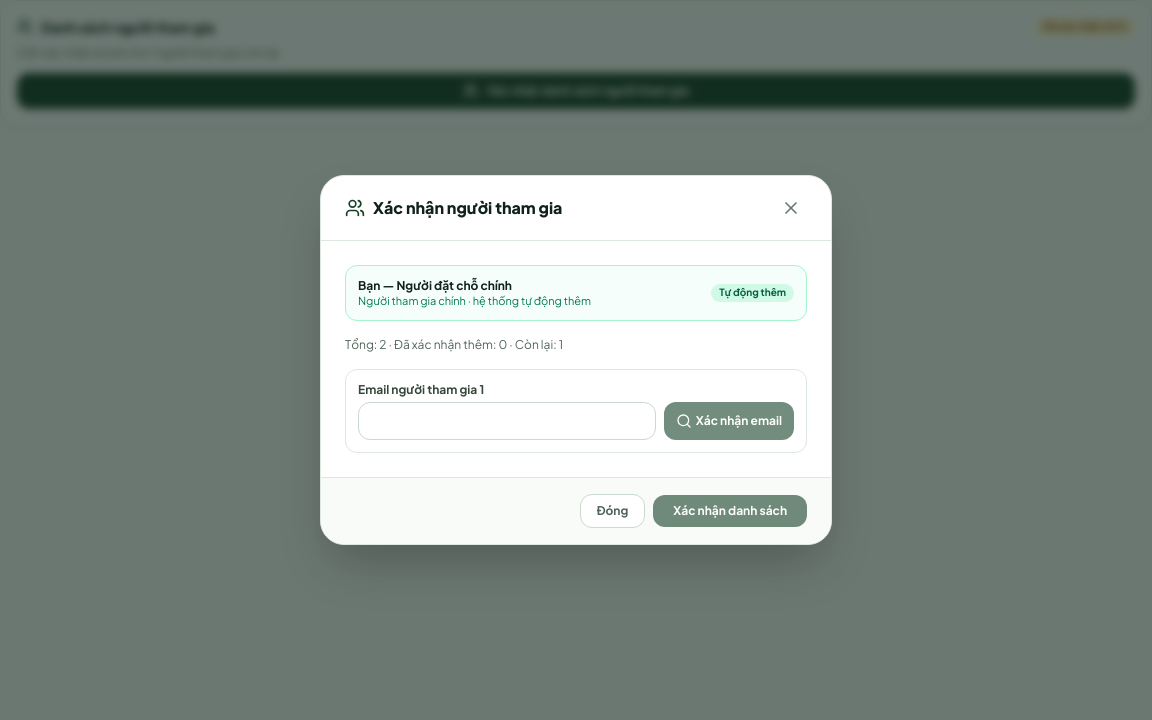
Test: InitializeBookingMembersPanel › validates email accessibly before resolving
In the field labelled "Email người tham gia 1": (507, 421) [358, 402, 656, 440], type "invalid"
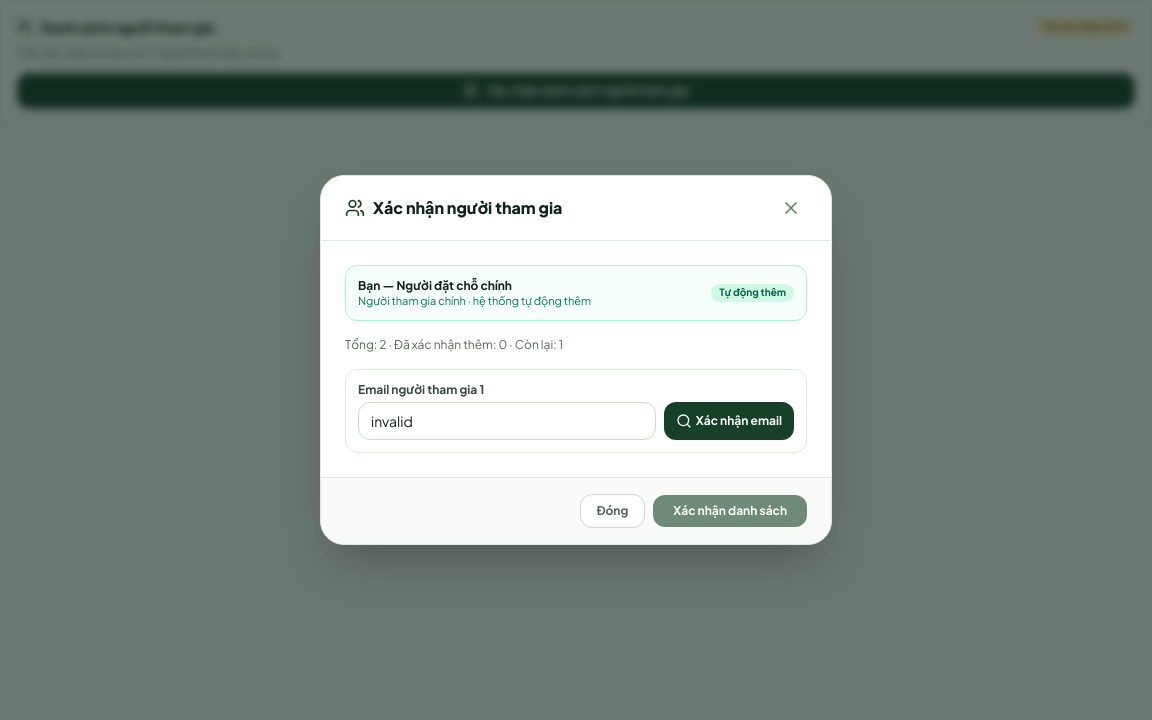
Click the button "Xác nhận email": (729, 421) [664, 402, 794, 440]
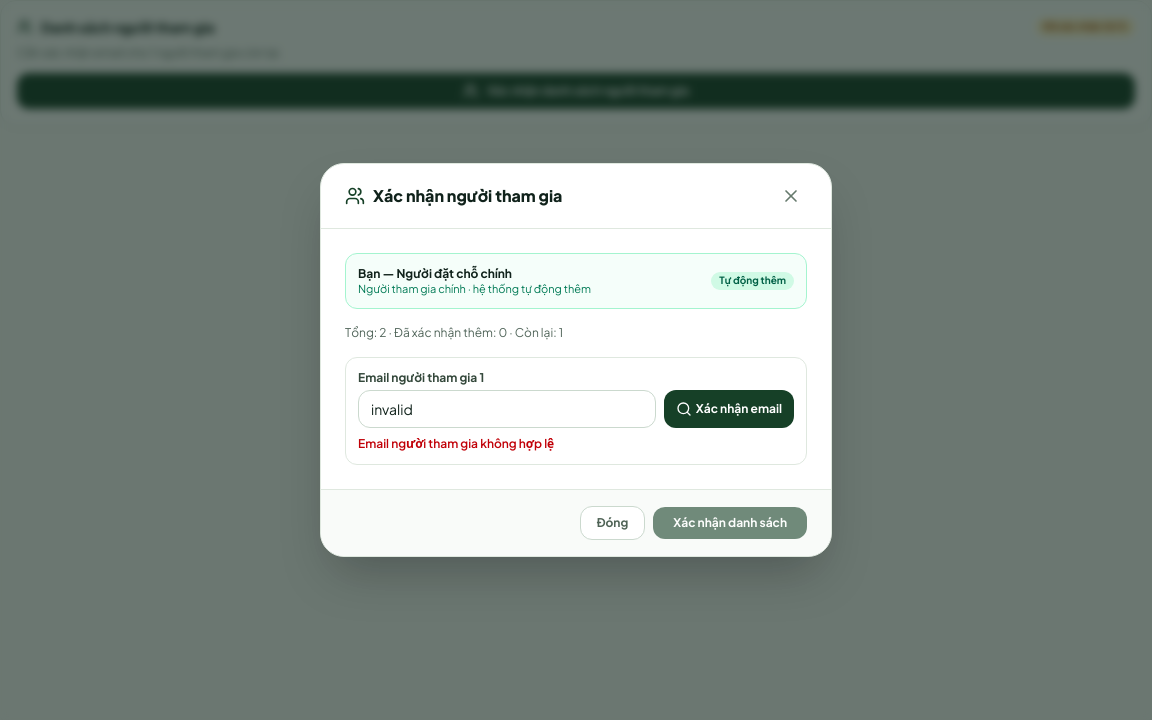
Check: the message reads "Email người tham gia không hợp lệ", box [358, 436, 554, 451]
